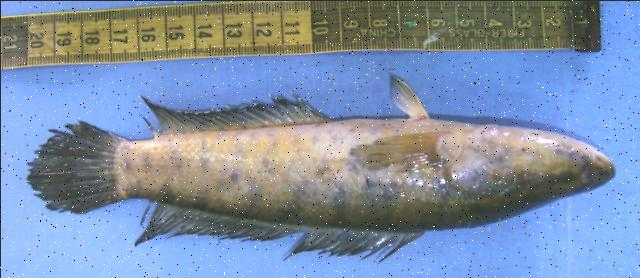Mulut: (572, 134, 618, 196)
Sirip Anal: (130, 80, 336, 140)
Sirip Dada: (337, 124, 457, 174)
Sirip Ekor: (27, 115, 128, 220)
Sirip Perut: (380, 68, 436, 130)
Sirip Punggung: (116, 200, 430, 266)
